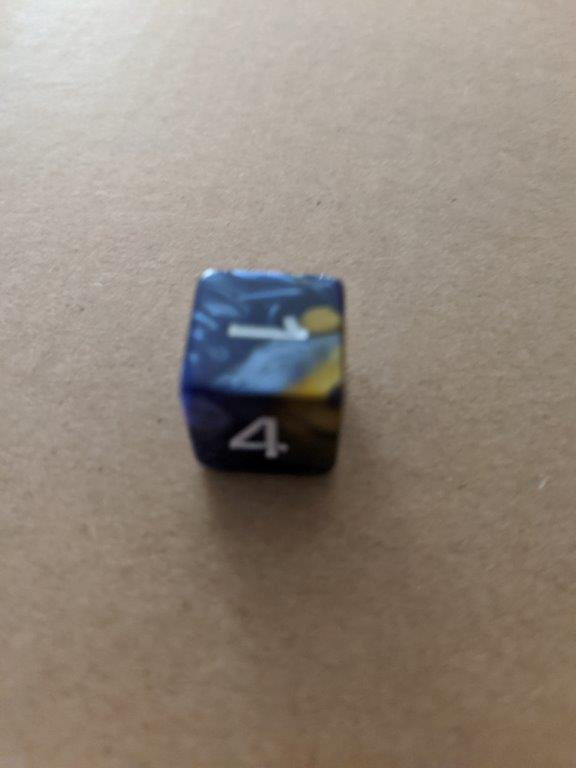d6-1: (181, 266, 348, 482)
